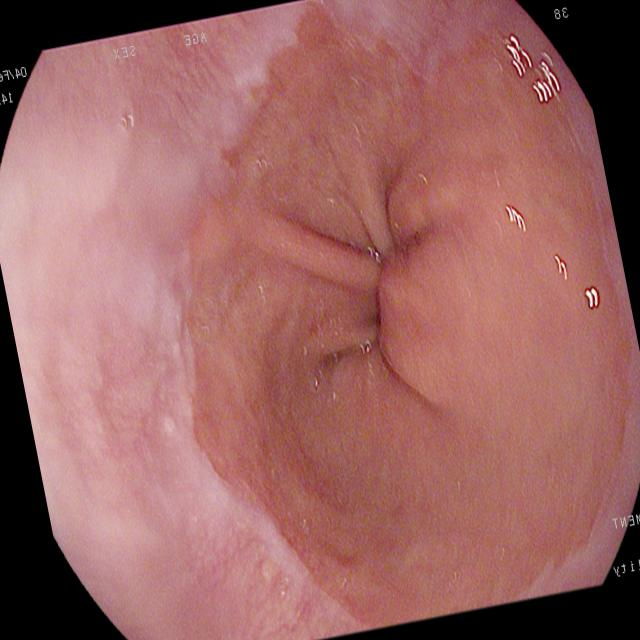Normal-Z-Line: (167, 0, 640, 636)
